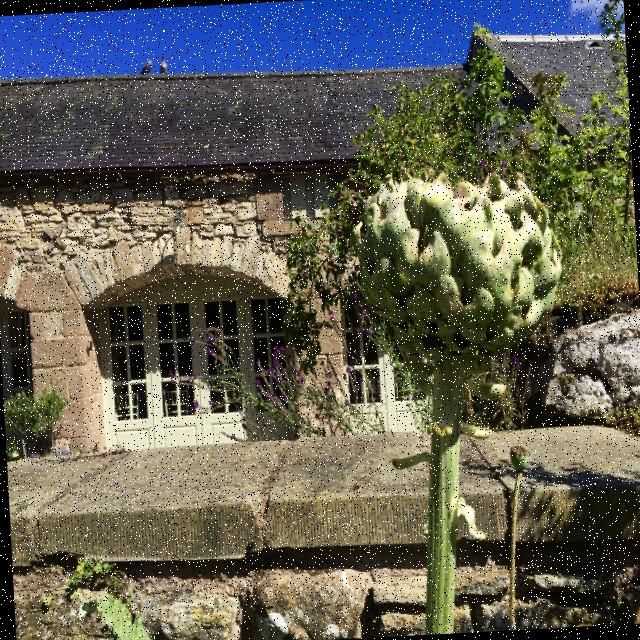bird: (160, 56, 168, 74)
